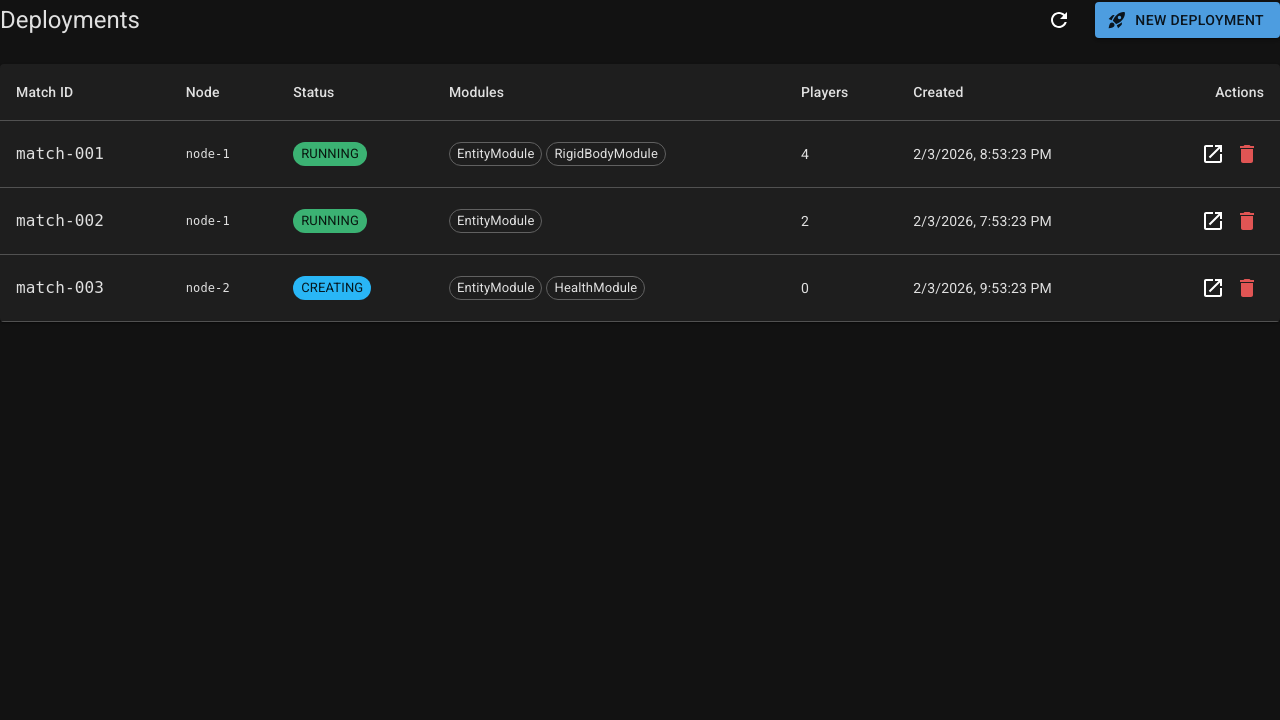
DeploymentsPanel › opens new deployment dialog when button clicked
Click the button "New Deployment" at (1188, 20), box [1095,2,1279,38]
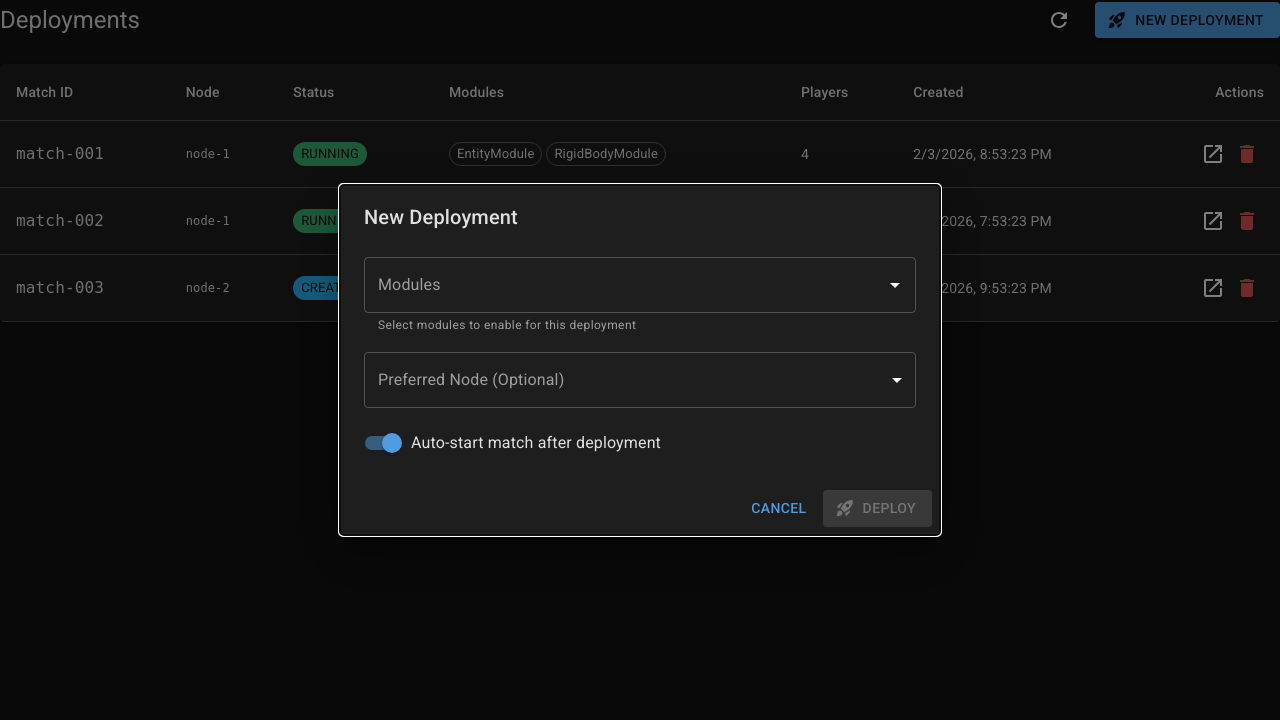
Expected: the dialog is shown, [340,185,940,535]
Expected: the dialog shows "New Deployment", [364,205,518,229]
